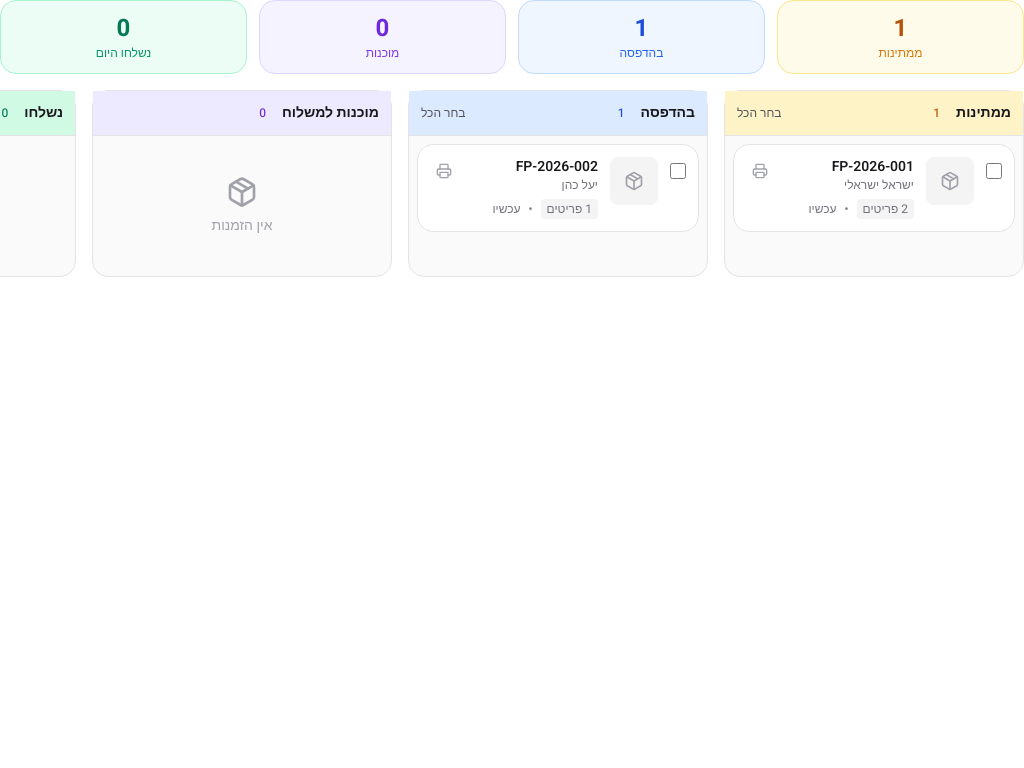
FulfillmentBoard › Bulk Actions › should open status modal when update status clicked
// Select an order
Click the checkbox named "בחר הזמנה FP-2026-001" at [994, 171], box 986,163 -> 1002,179
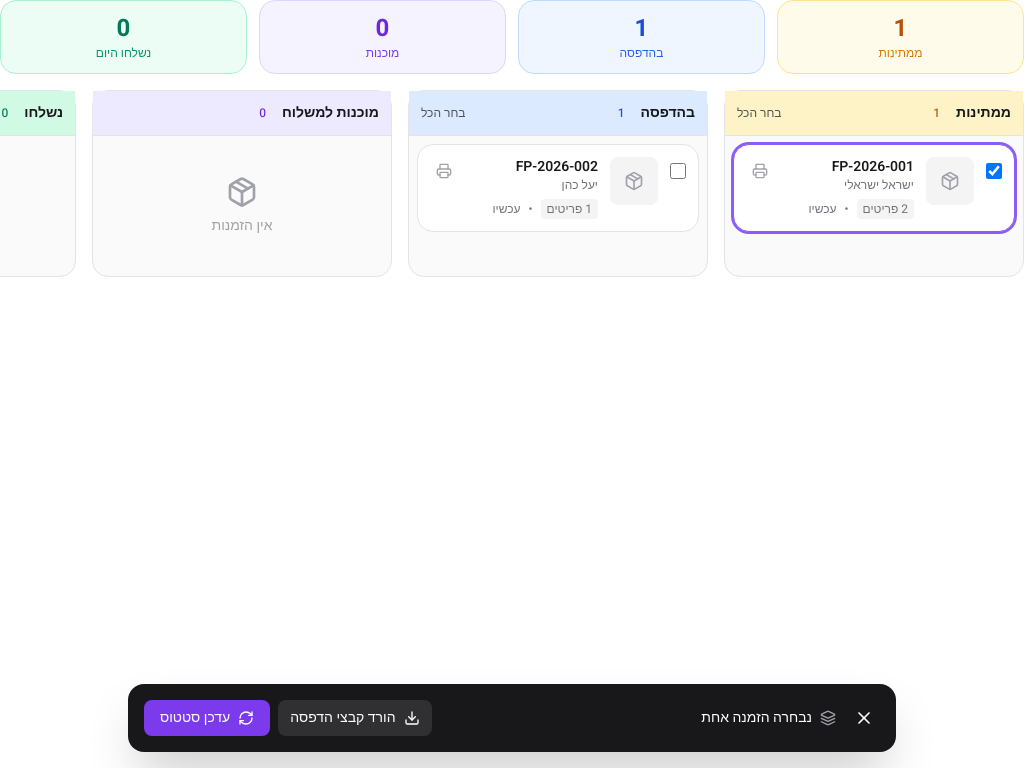
// Click update status
Click the button "עדכן סטטוס" at [207, 718], box 144,700 -> 270,736
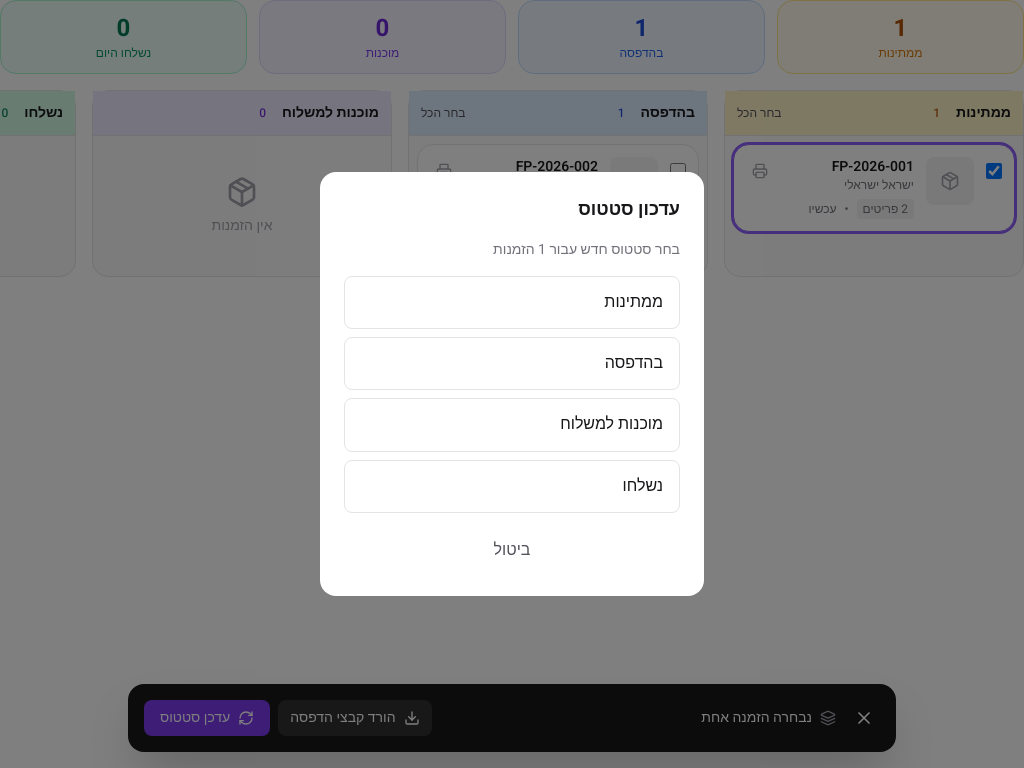
Result: the element with test id "status-modal" is shown
